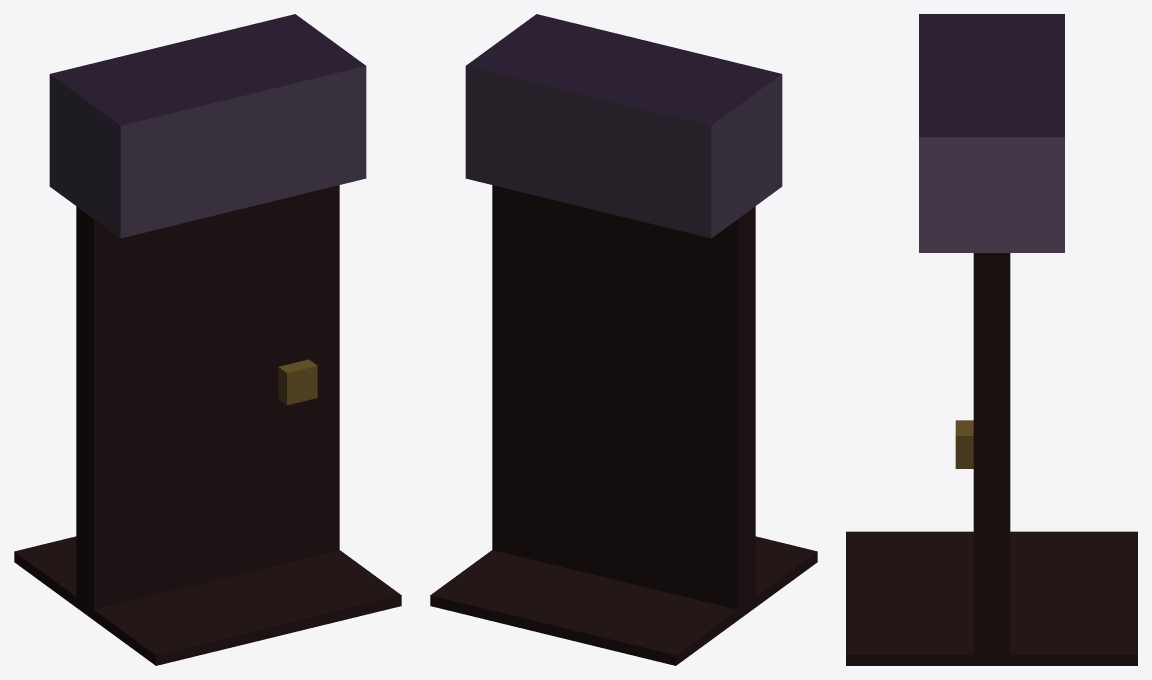
File: door_open.dae
3 views of the same model, side by side, from view 1: azimuth 30°, elevation 25°; view 2: azimuth 150°, elevation 25°; view 3: azimuth 270°, elevation 25° (orthographic). The views are drawn at different scales.
Parts seen in each view (by area): view 1: door_MSH, frame_MSH; view 2: door_MSH, frame_MSH; view 3: frame_MSH, door_MSH.
Part boxes in pixels (left/top/right/bottom): door_MSH: left=76, top=185, right=339, bottom=609; frame_MSH: left=14, top=14, right=401, bottom=665; door_MSH: left=492, top=185, right=755, bottom=609; frame_MSH: left=430, top=14, right=817, bottom=665; frame_MSH: left=846, top=14, right=1137, bottom=665; door_MSH: left=955, top=253, right=1010, bottom=654.
Bounding box in the file's own units: 1 × 2 × 1.
